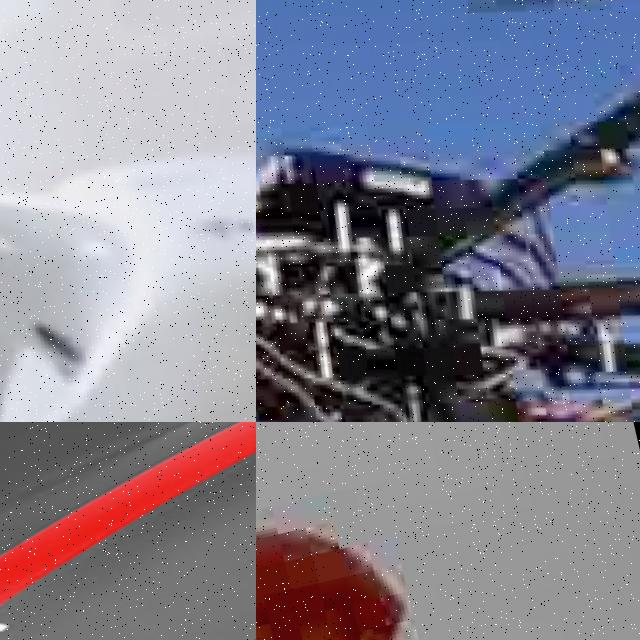drone: (256, 0, 640, 422), (0, 0, 256, 422), (0, 422, 256, 640)
